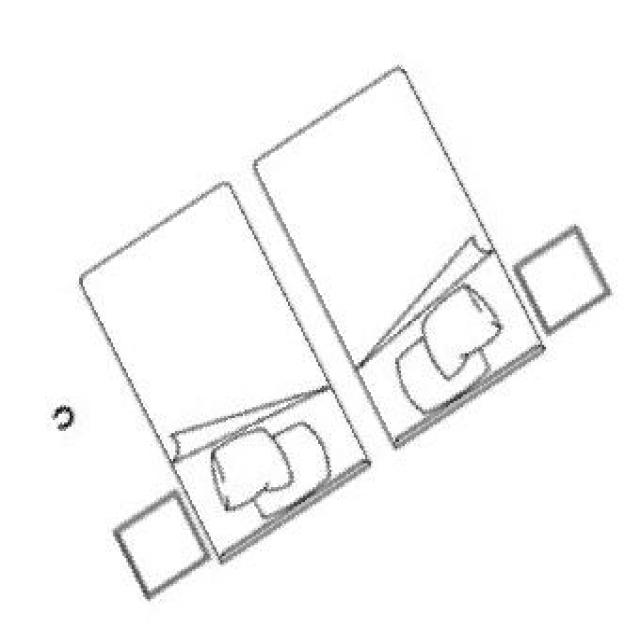bed: (77, 64, 610, 590)
